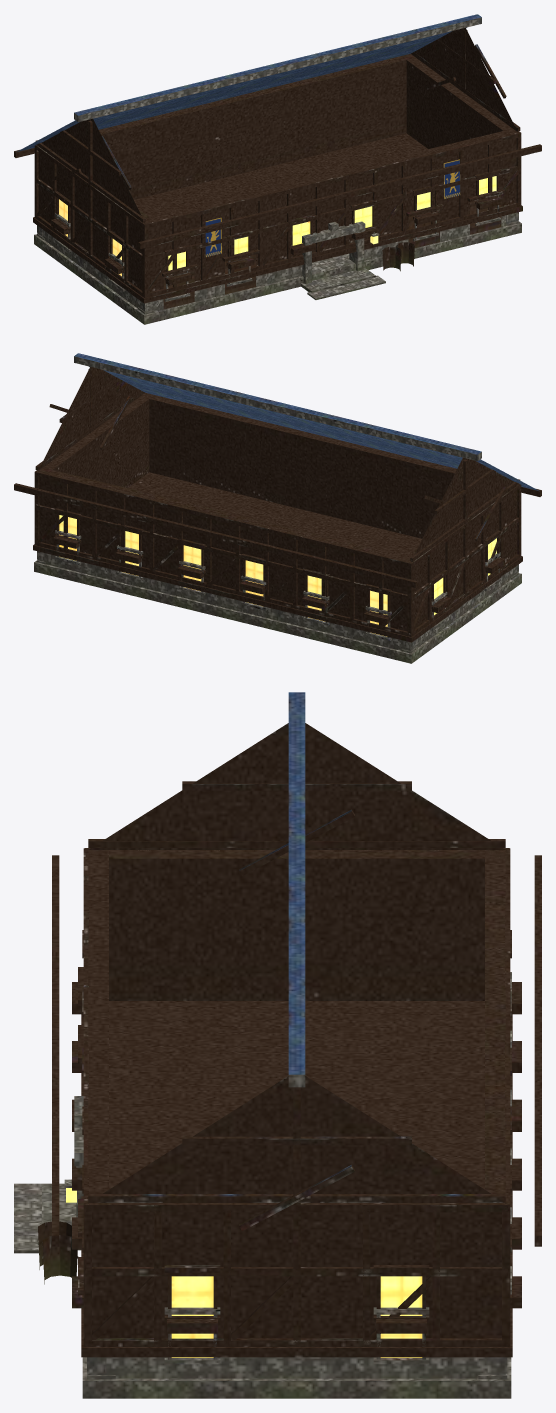
Rendered from bld_stables_card_lod1.glb.
3 renders of one model, top to bottom at view 1: azimuth 30°, elevation 25°; view 2: azimuth 150°, elevation 25°; view 3: azimuth 270°, elevation 25°, orthographic. The views are drawn at different scales.
Visible parts, largest first — view 1: stables_card; view 2: stables_card; view 3: stables_card.
Part boxes in pixels (x1,y1,x2,y2): stables_card: (14, 14, 541, 324); stables_card: (14, 353, 541, 663); stables_card: (14, 692, 541, 1398).
Bounding box in the file's own units: 35.07 × 13.6 × 19.35.
1 material, 1 textured.
